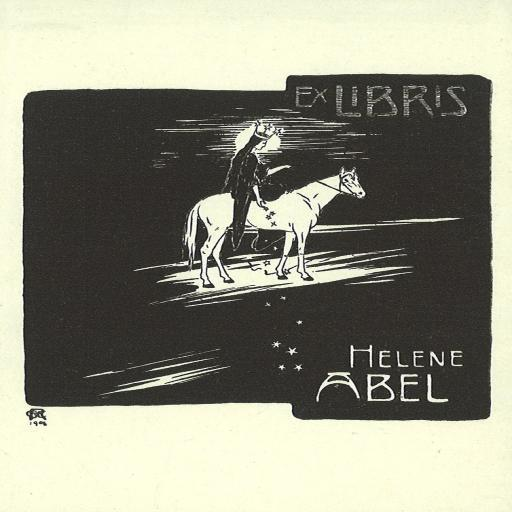horse: (179, 166, 369, 289)
